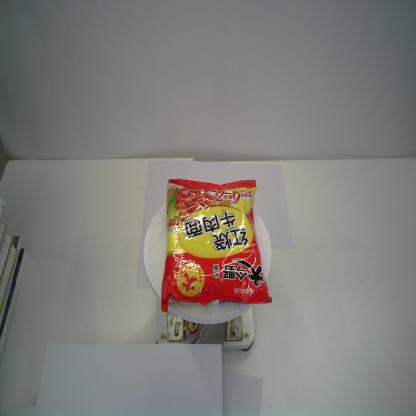Instant Noodles: (159, 177, 272, 314)
